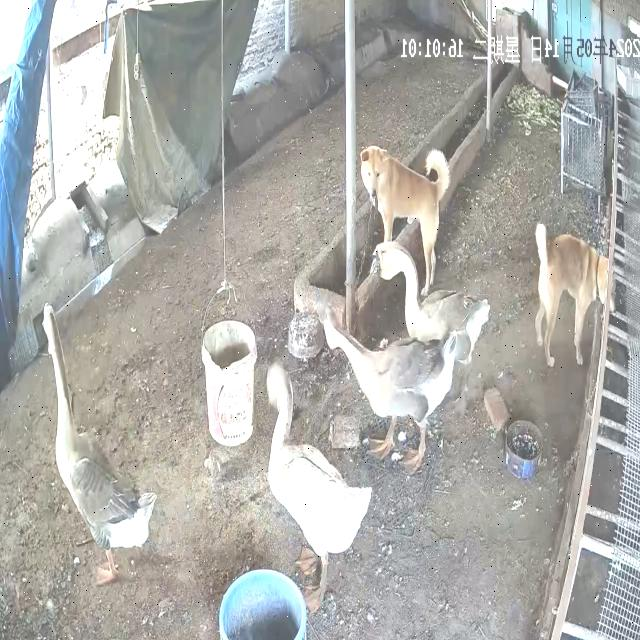dog: (361, 145, 452, 299), (536, 223, 618, 370)
